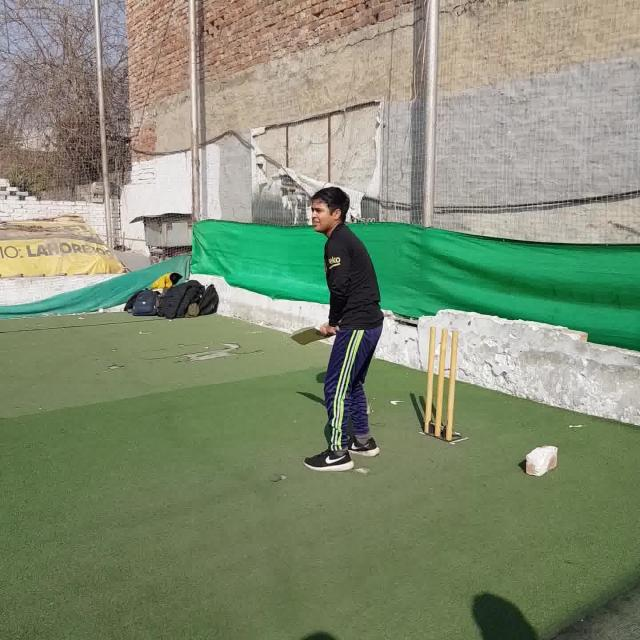bat: (290, 326, 338, 346)
